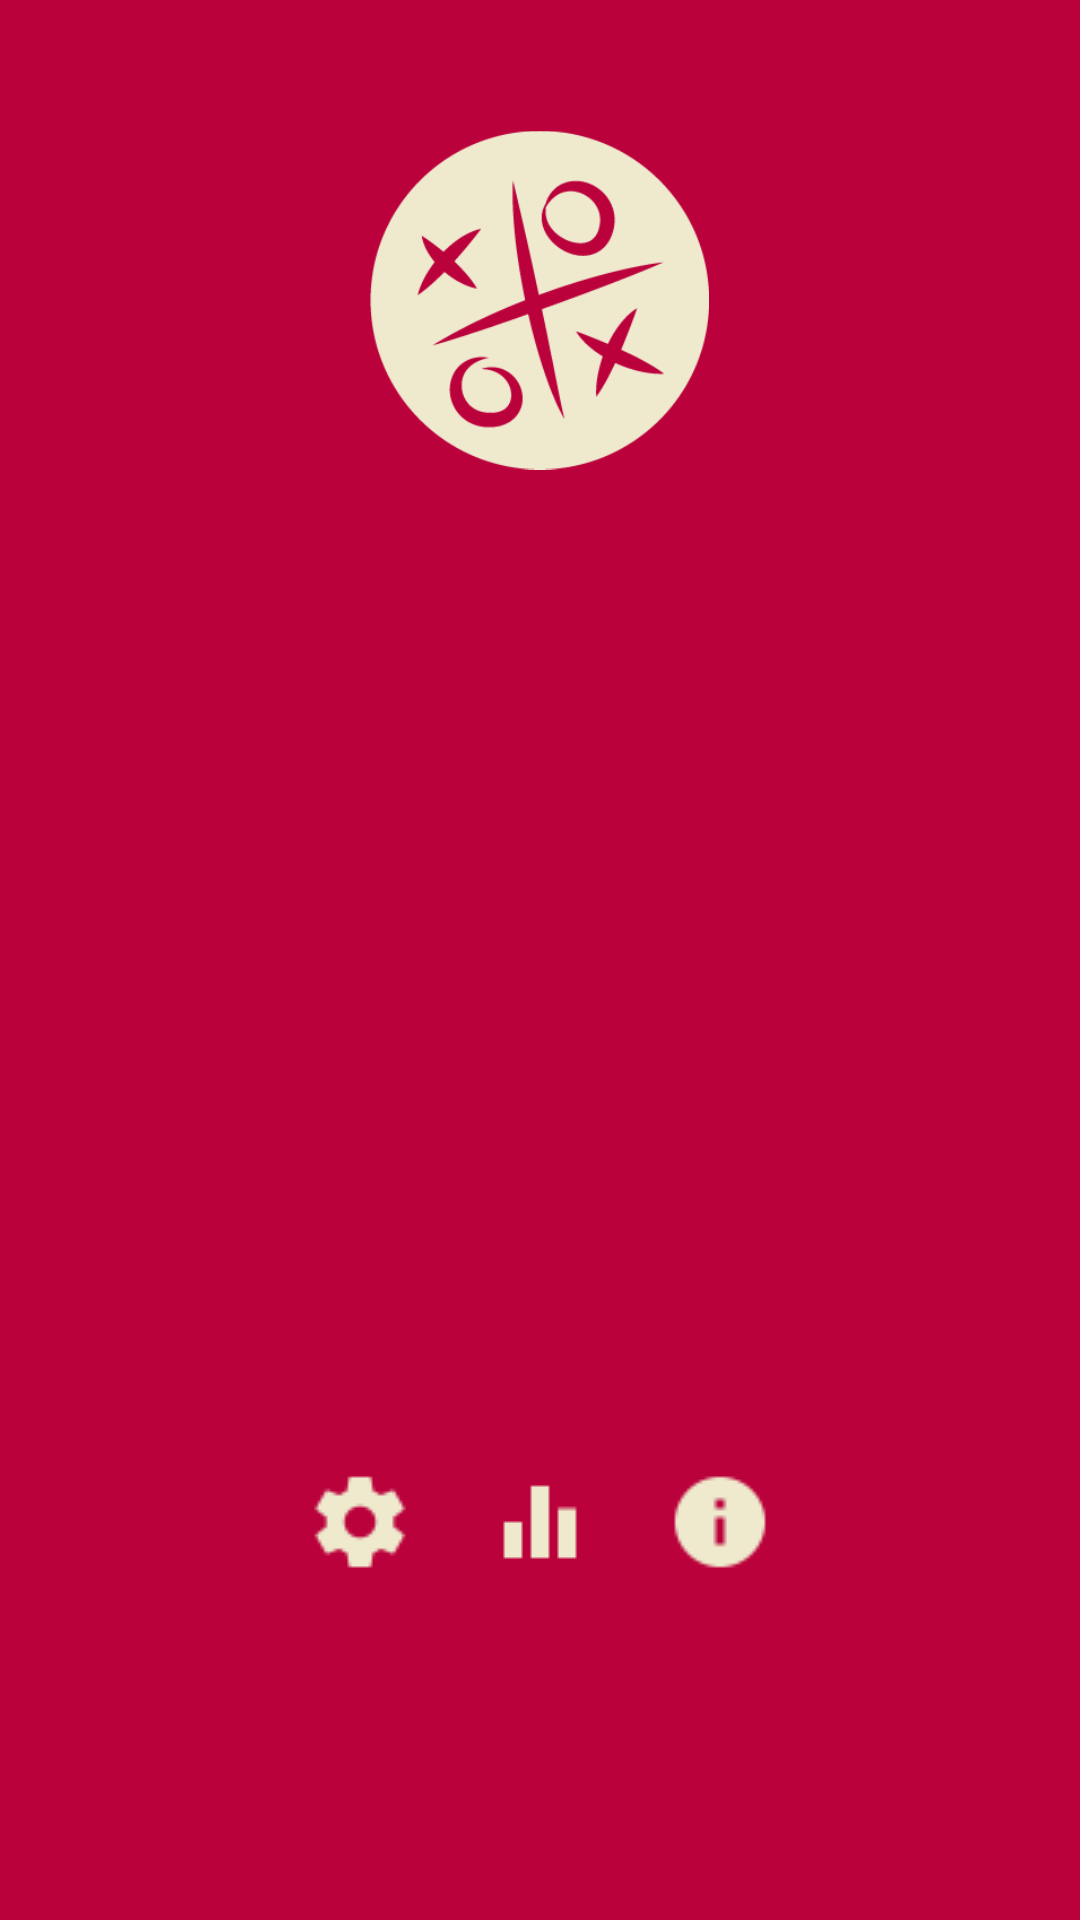

Icon click points for this 1080*1920 phone screenshot, format (x=x, y=y):
info: (x=720, y=1522)
settings: (x=360, y=1522)
stat: (x=540, y=1522)
